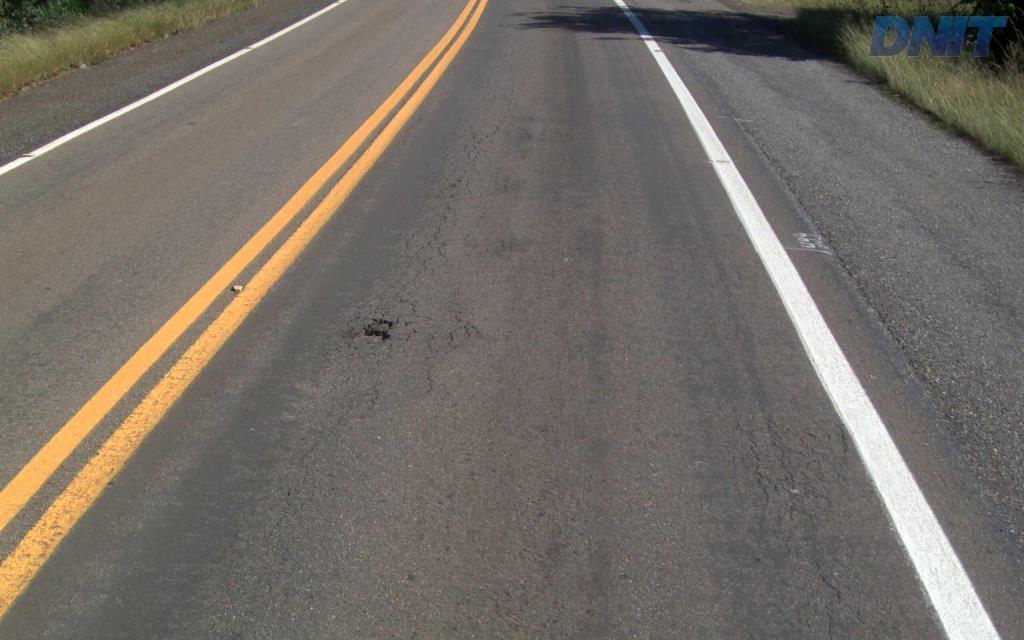crack: (341, 315, 400, 344)
pothole: (349, 318, 398, 347)
